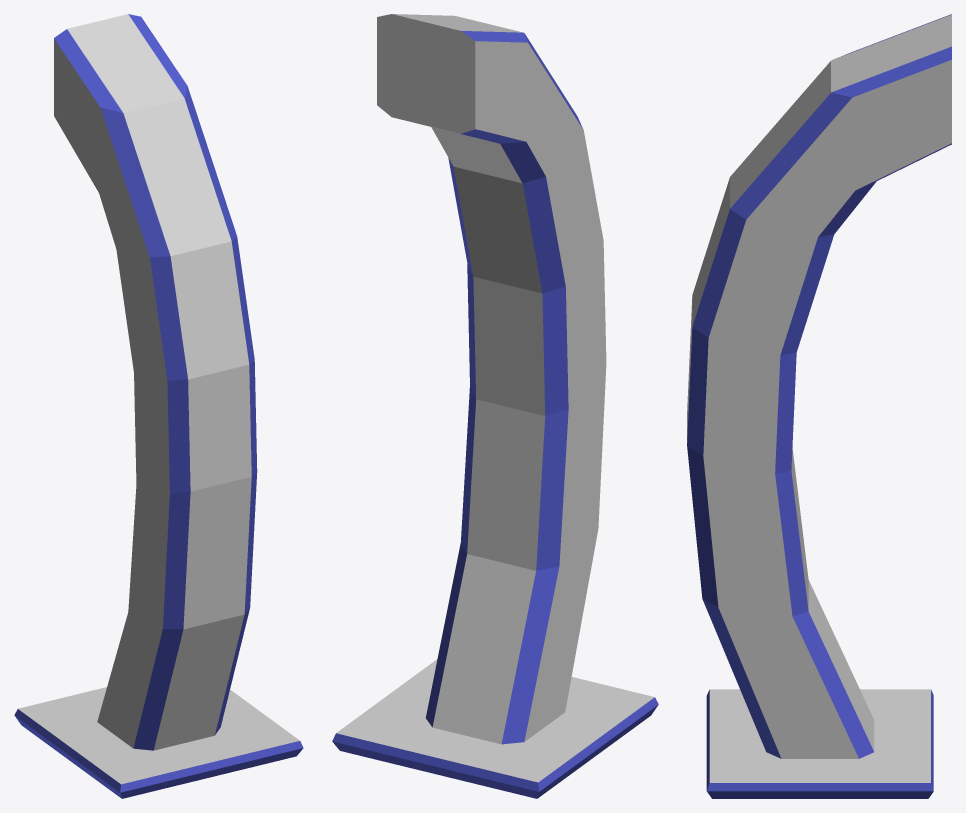
Rendered from ScreenSupport.fbx.
The picture shows the model from 3 angles, left to right: view 1: azimuth 30°, elevation 25°; view 2: azimuth 150°, elevation 25°; view 3: azimuth 270°, elevation 25°; orthographic projection. The views are drawn at different scales.
Visible parts, largest first — view 1: ScreenSupport; view 2: ScreenSupport; view 3: ScreenSupport.
Part boxes in pixels (left/top/right/bottom): ScreenSupport: left=14, top=14, right=303, bottom=798; ScreenSupport: left=332, top=14, right=658, bottom=798; ScreenSupport: left=687, top=14, right=951, bottom=798.
Size of the model in its own units: 26.25 by 92.23 by 30.63.
